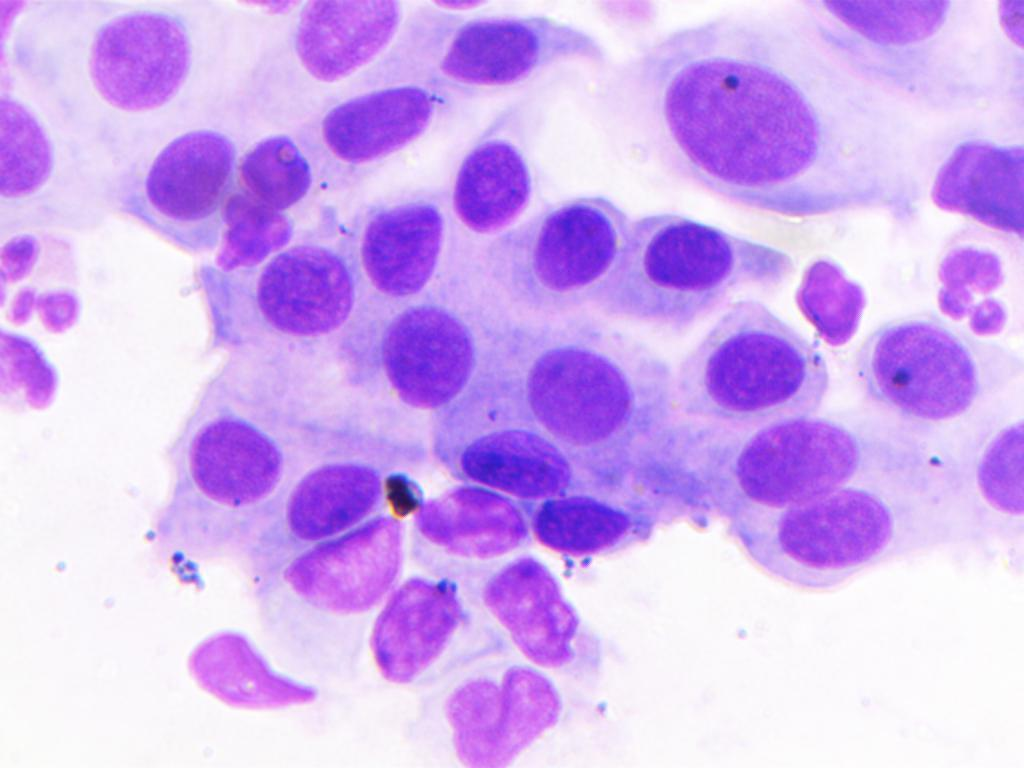artifact: (176, 629, 321, 712), (916, 132, 1024, 239), (797, 257, 869, 351), (379, 466, 440, 522)
epithelial: (631, 33, 876, 211), (66, 10, 218, 130), (366, 300, 480, 437), (857, 315, 1023, 409), (164, 395, 283, 526), (673, 307, 806, 420), (522, 326, 642, 443), (732, 408, 867, 512), (478, 541, 588, 666), (437, 659, 563, 768), (360, 573, 474, 692), (297, 83, 454, 165), (763, 490, 907, 579), (422, 18, 602, 88), (446, 105, 541, 236), (277, 0, 413, 91), (126, 120, 237, 231), (254, 245, 363, 356), (526, 198, 627, 309), (637, 217, 765, 298), (450, 420, 577, 499), (810, 0, 968, 63), (283, 448, 386, 544), (0, 70, 68, 212), (419, 476, 533, 558), (361, 193, 449, 299), (530, 488, 661, 554), (969, 408, 1024, 541), (238, 119, 312, 216)
goblet_cell: (279, 516, 403, 614)
neutrophil: (931, 241, 1024, 349), (0, 228, 84, 331), (0, 329, 81, 433)
